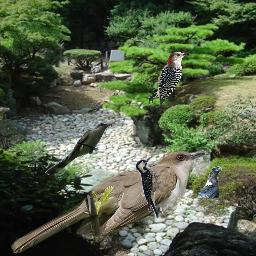Crow: (198, 166, 222, 198)
Cuckoo: (10, 149, 205, 253), (45, 122, 112, 175)
Woodpecker: (149, 51, 191, 105), (135, 156, 168, 218)
